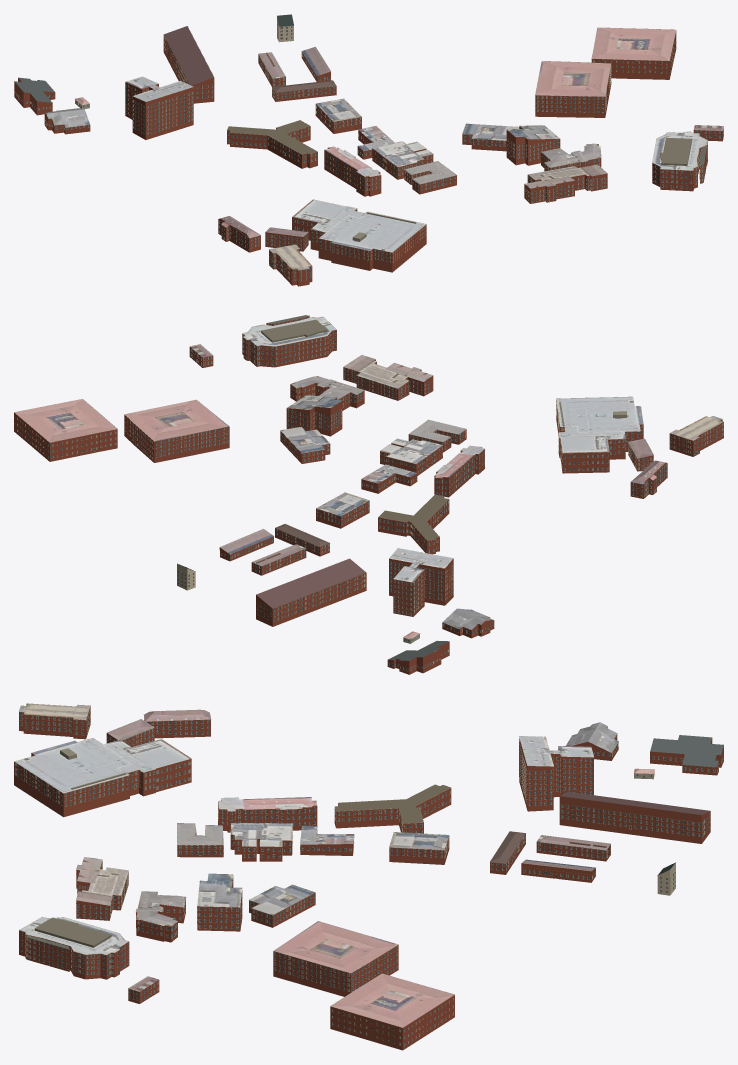
3 renders of one model, top to bottom at view 1: azimuth 30°, elevation 25°; view 2: azimuth 150°, elevation 25°; view 3: azimuth 270°, elevation 25°, orthographic. The views are drawn at different scales.
Visible parts, largest first — view 1: -3_-1_187869327_0, -3_-1_318280064_6; view 2: -3_-1_187869327_0, -3_-1_318280064_6; view 3: -3_-1_187869327_0, -3_-1_318280064_6.
Part boxes in pixels (box(x1,y1,x2,y2)): -3_-1_187869327_0: box(14, 14, 723, 286); -3_-1_318280064_6: box(14, 14, 706, 164); -3_-1_187869327_0: box(14, 315, 723, 674); -3_-1_318280064_6: box(181, 315, 448, 660); -3_-1_187869327_0: box(14, 703, 723, 1050); -3_-1_318280064_6: box(27, 735, 723, 948).
Size of the model in its own units: 536 by 42.69 by 503.
Materials: 13 (1 with a texture image).
